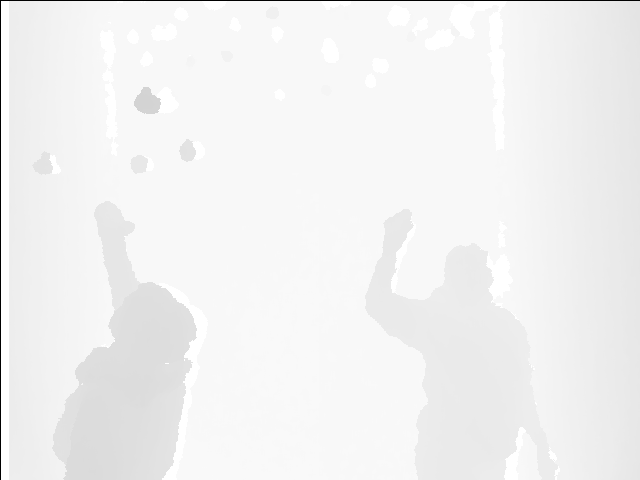hand: (94, 202, 136, 250), (380, 208, 414, 252)
